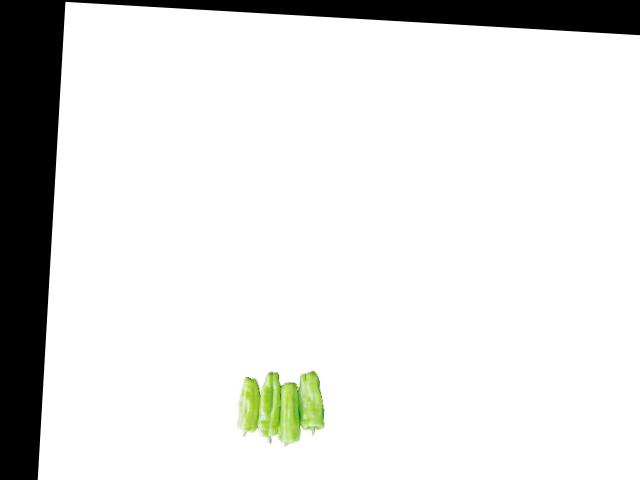bell_pepper: (295, 365, 327, 439)
